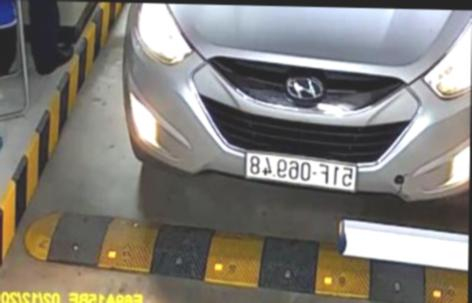License_Plate: (245, 155, 356, 187)
